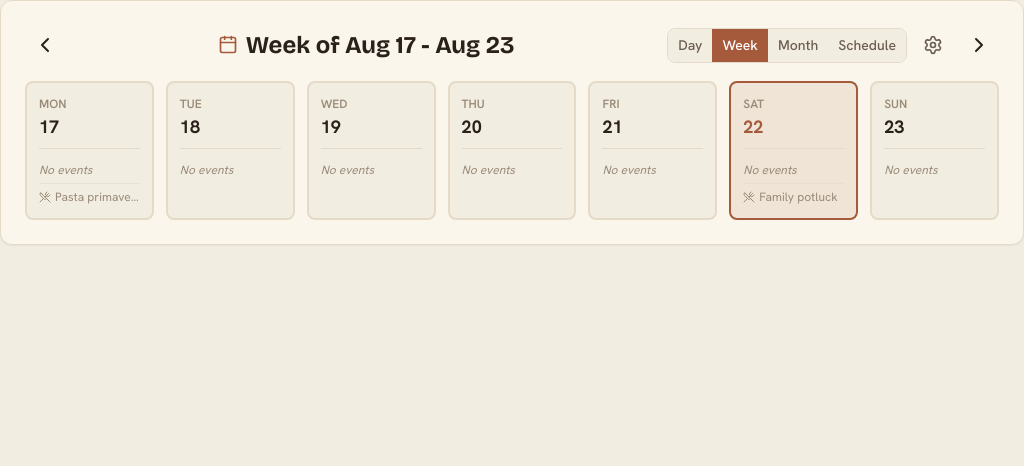
Test: WeekCalendar — interactions › view toggle (FR-145) › prev/next steps one day at a time in the day view
Step 1. Click the button "Day" → point(690, 45), box [668,28,712,62]
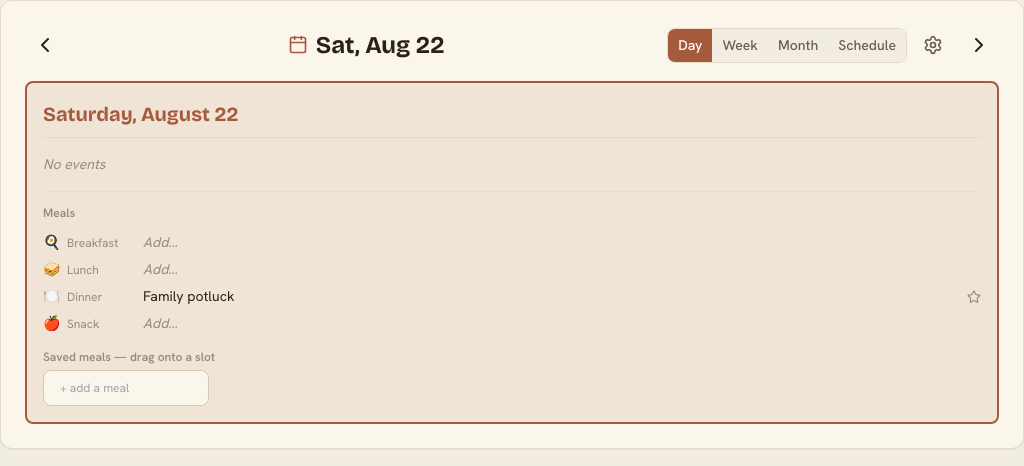
Expected: the heading shows "Aug 22", [316,31,444,59]
Step 2. Click the button named "Next" → point(979, 45), box [959,25,999,65]
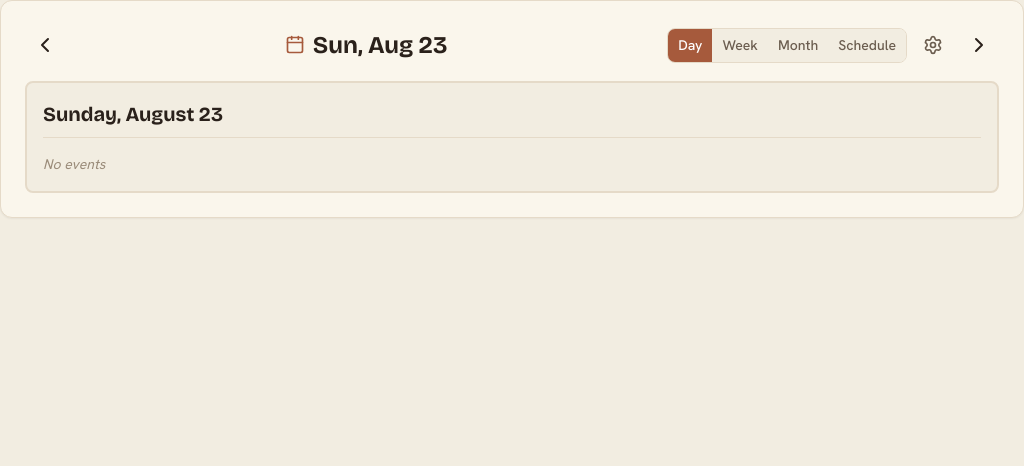
Expected: the heading shows "Aug 23", [313,31,447,59]
Step 3. Click the button named "Previous" → point(45, 45), box [25,25,65,65]
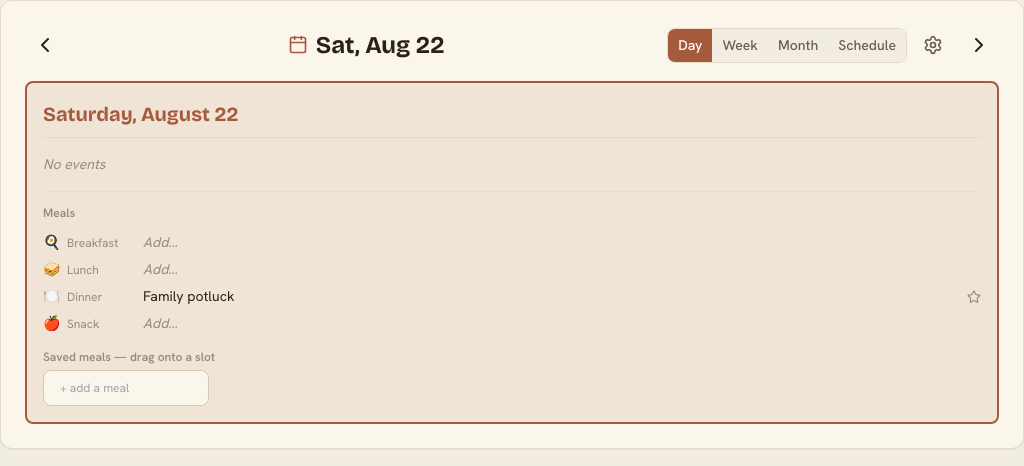
Step 4. Click the button named "Previous" → point(45, 45), box [25,25,65,65]
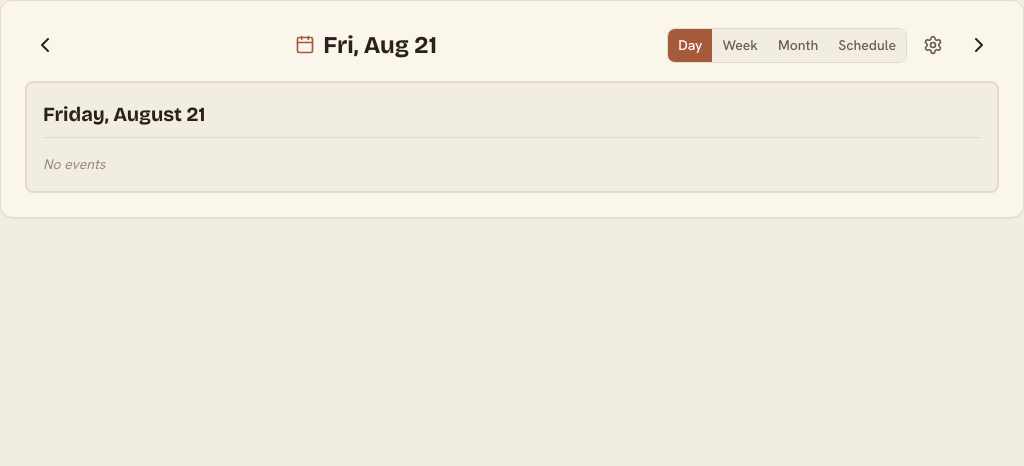
Expected: the heading shows "Aug 21", [323,31,437,59]
